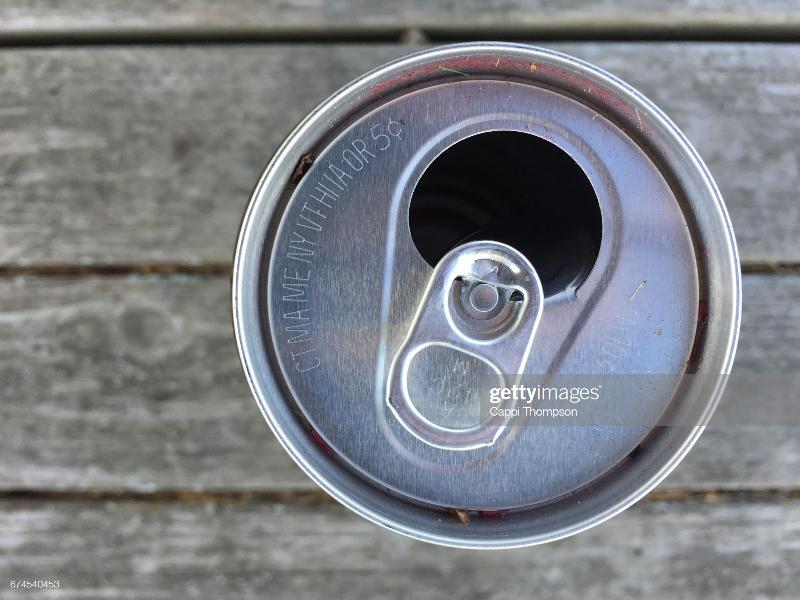can: (225, 37, 750, 559)
